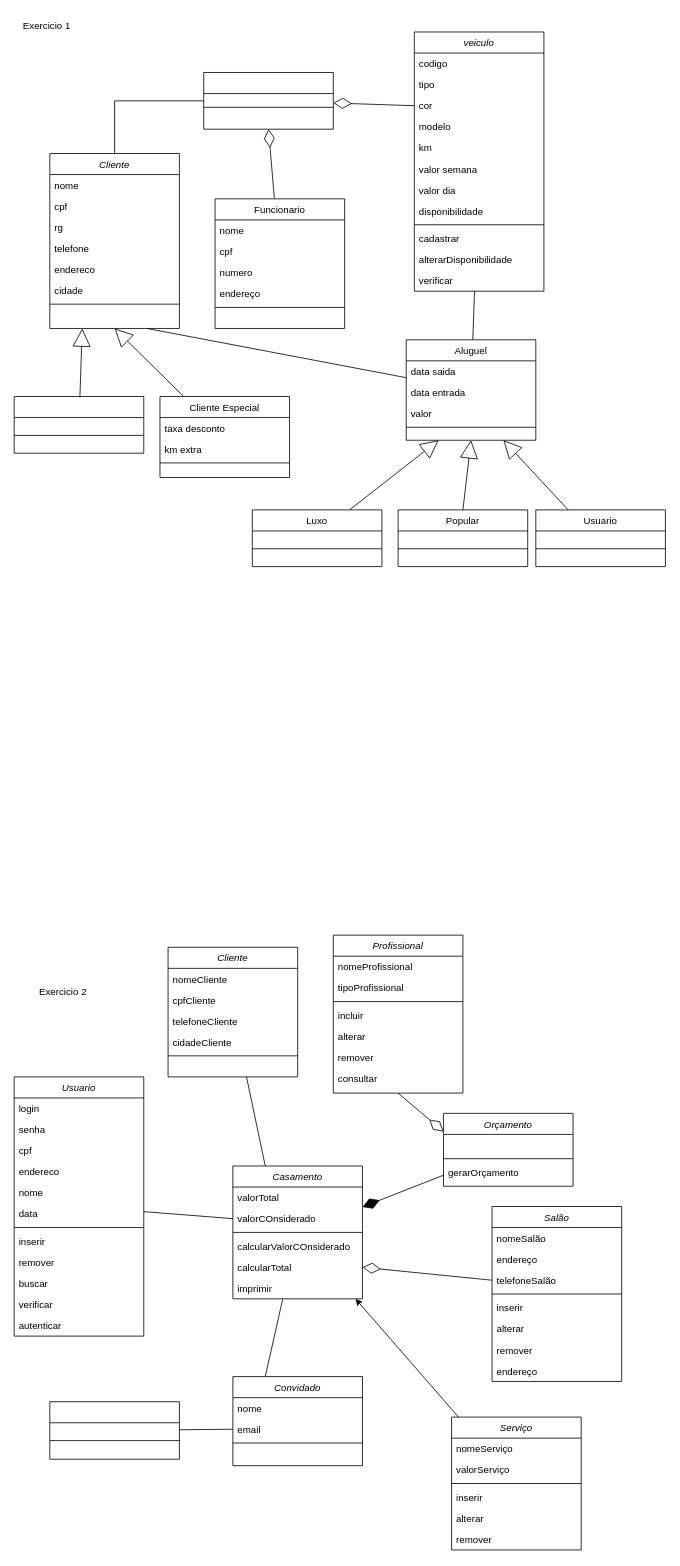
This 680x1566 diagram has some shape labels left out. Each missing label, with the centre of its shape:
"Cliente Comum" goes at (78,424).
"locadora" goes at (268,100).
"Presente" goes at (114,1430).
